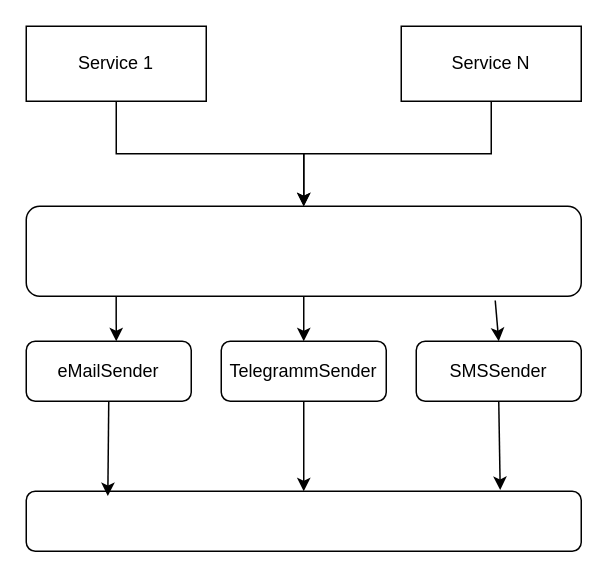
Image size: 608x578. Some labels were removed from this diagram. The box of each missing label's shape, as (x1, y1, x2, y2) in pixels:
Notification Broker: (25, 205, 581, 296)
USers: (25, 490, 581, 551)
